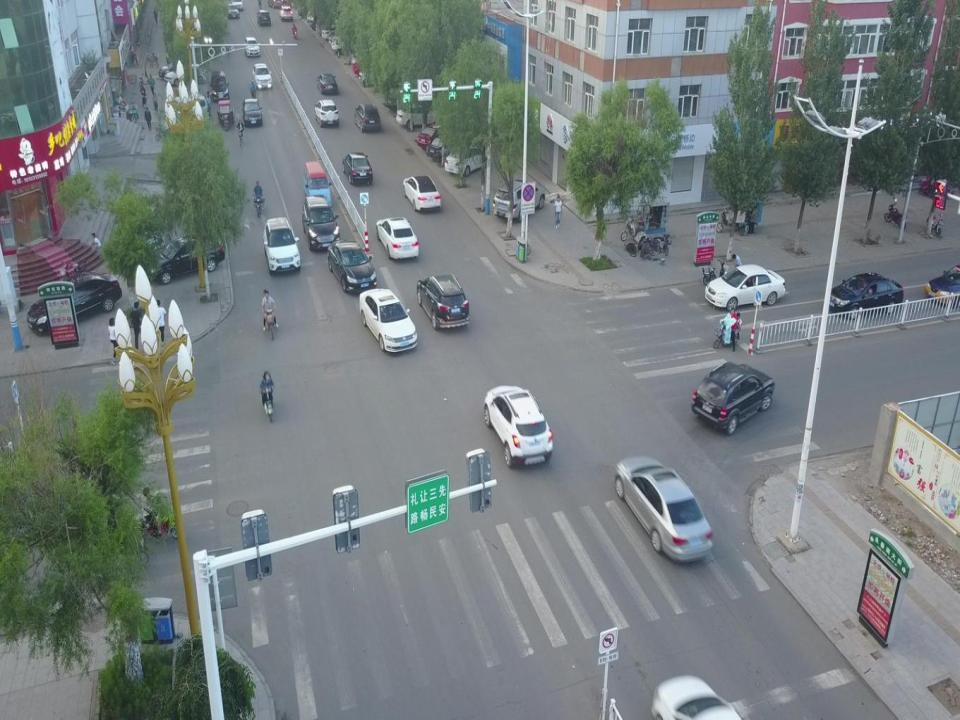car: (615, 456, 714, 564), (26, 270, 124, 335), (691, 361, 776, 435), (484, 384, 554, 469), (359, 288, 418, 355), (704, 264, 786, 312), (147, 234, 225, 284), (827, 272, 904, 320), (417, 273, 470, 330), (327, 239, 377, 294), (492, 179, 546, 221), (262, 216, 300, 273), (301, 195, 340, 249), (376, 216, 420, 260), (444, 142, 492, 178), (425, 131, 474, 165), (923, 264, 960, 308), (402, 174, 442, 213), (417, 122, 465, 152), (395, 102, 443, 130), (342, 152, 373, 184), (158, 57, 197, 82), (163, 64, 207, 86), (355, 103, 382, 132), (314, 98, 340, 128), (240, 98, 262, 126), (252, 63, 272, 89), (316, 72, 338, 92), (244, 37, 260, 57), (256, 8, 271, 26), (279, 4, 293, 22), (225, 4, 239, 19)
van: (303, 160, 332, 212), (166, 93, 210, 124), (209, 70, 229, 100)
